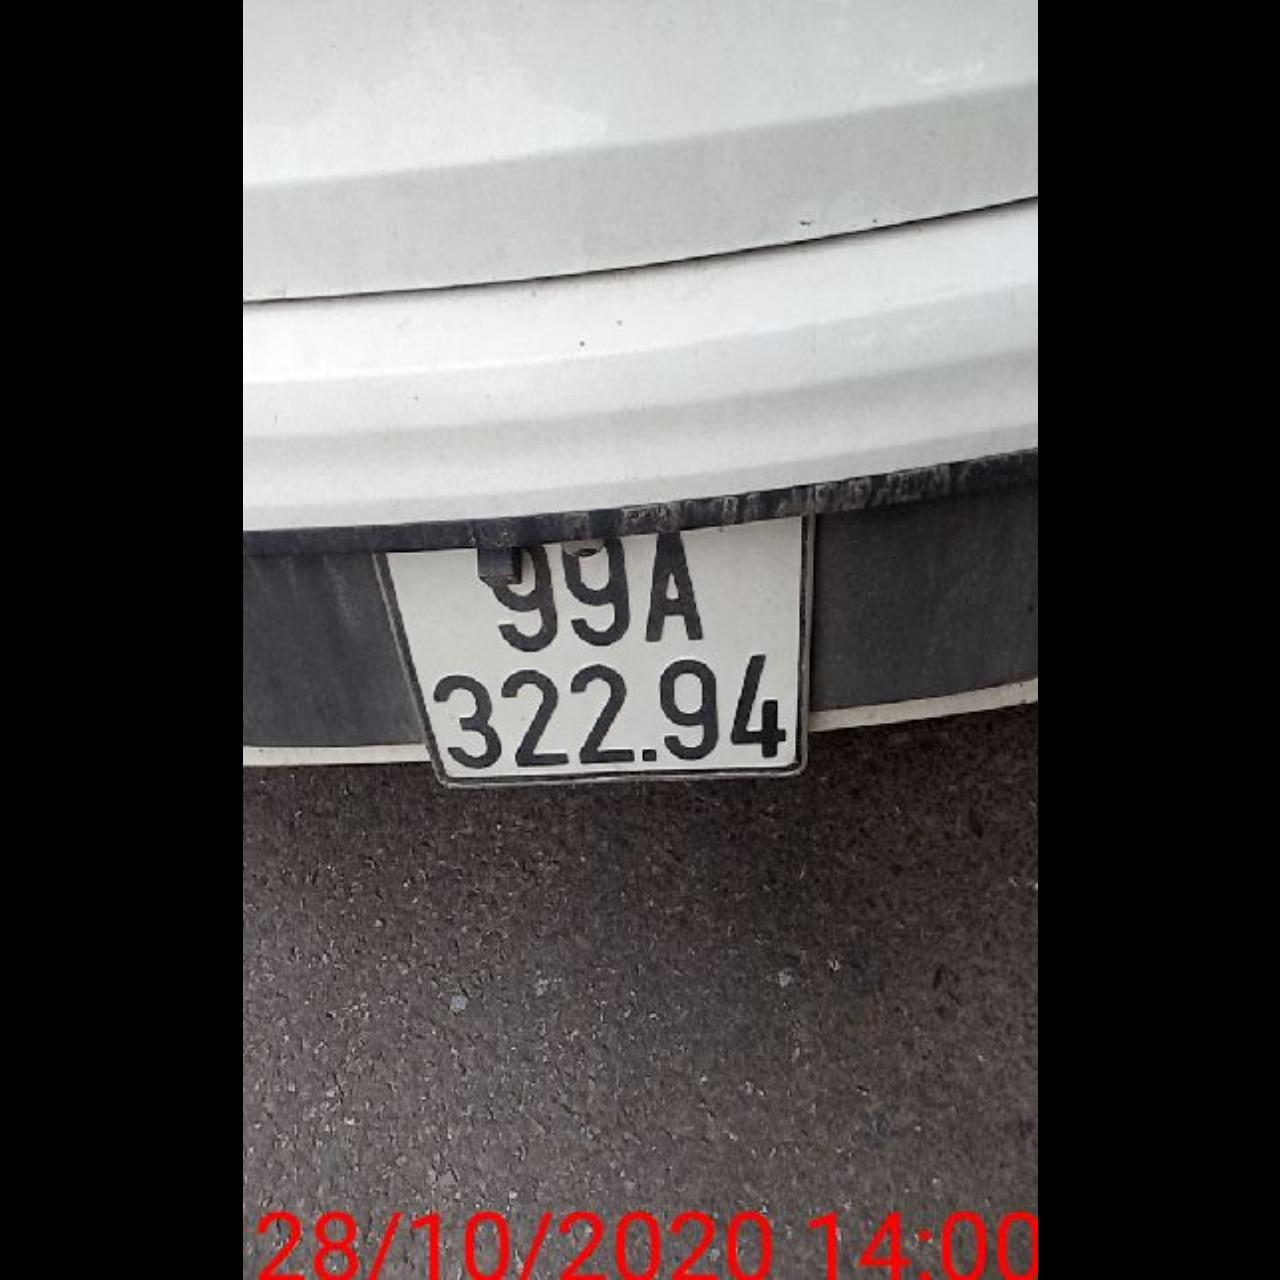bienso: (368, 507, 816, 791)
